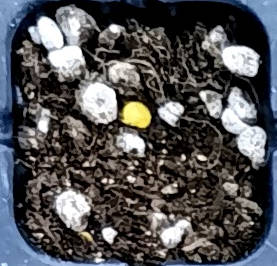pepper seed: (45, 36, 198, 164)
